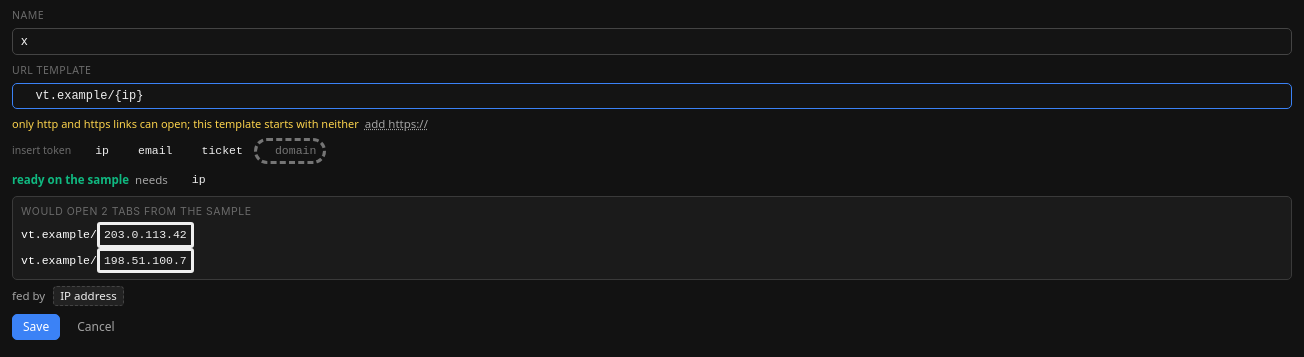
Test case: ToolEditor › the https:// fix strips leading whitespace and leaves the caret after the prefix
Click the button with test id "tool-url-scheme-fix". click: click(396, 124)
box: [365,115,428,133]
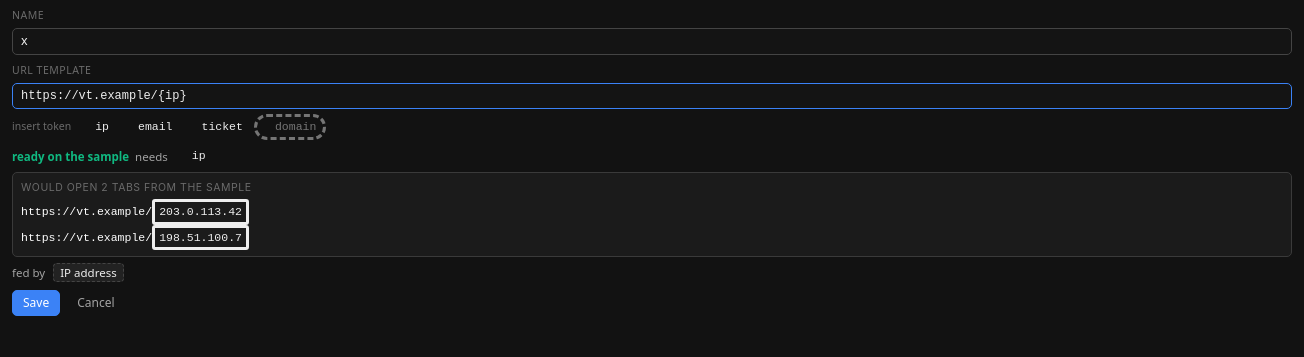
Expected: the field with test id "tool-url" holds "https://vt.example/{ip}", [12,83,1292,109]
